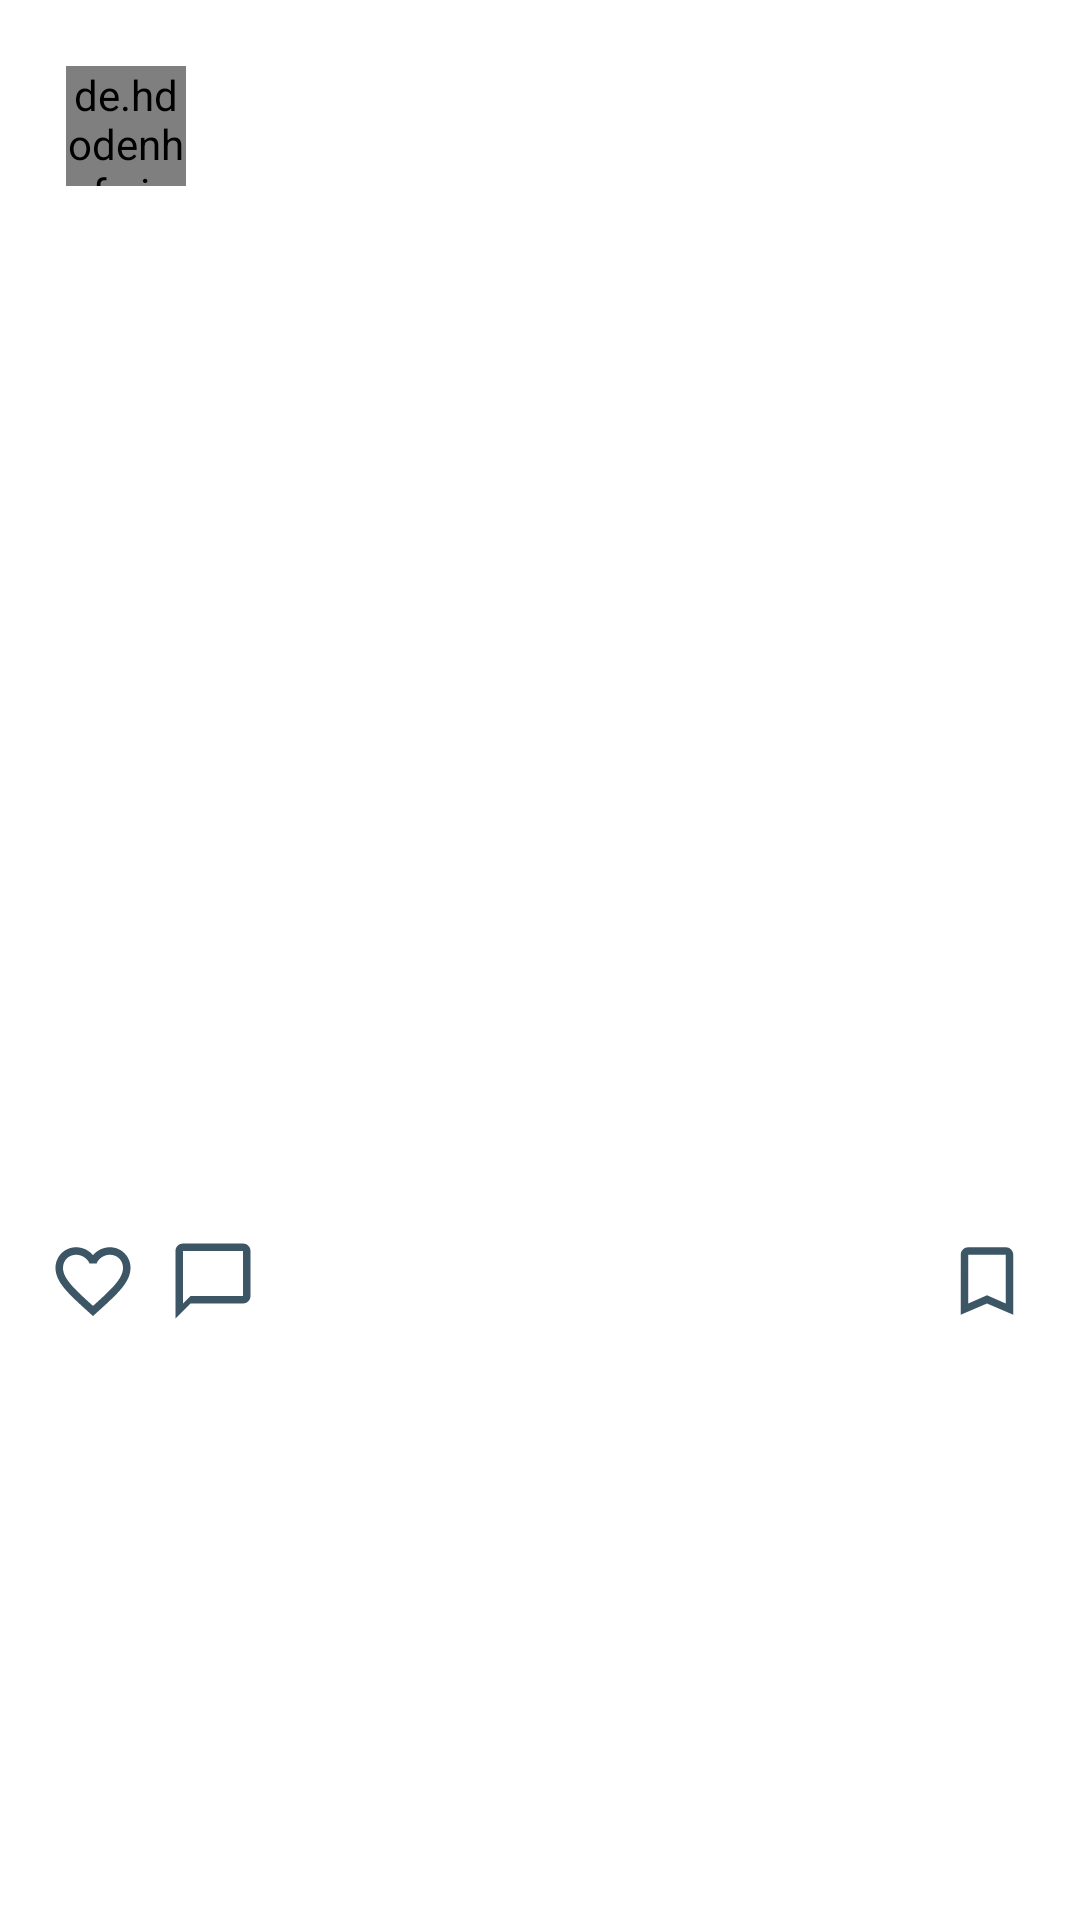

Where icons sit on this 1080×1920 app screen, as (x1, y1, x2, y2):
chat: (175, 1243, 251, 1319)
fav: (55, 1247, 131, 1316)
save: (960, 1247, 1014, 1315)
